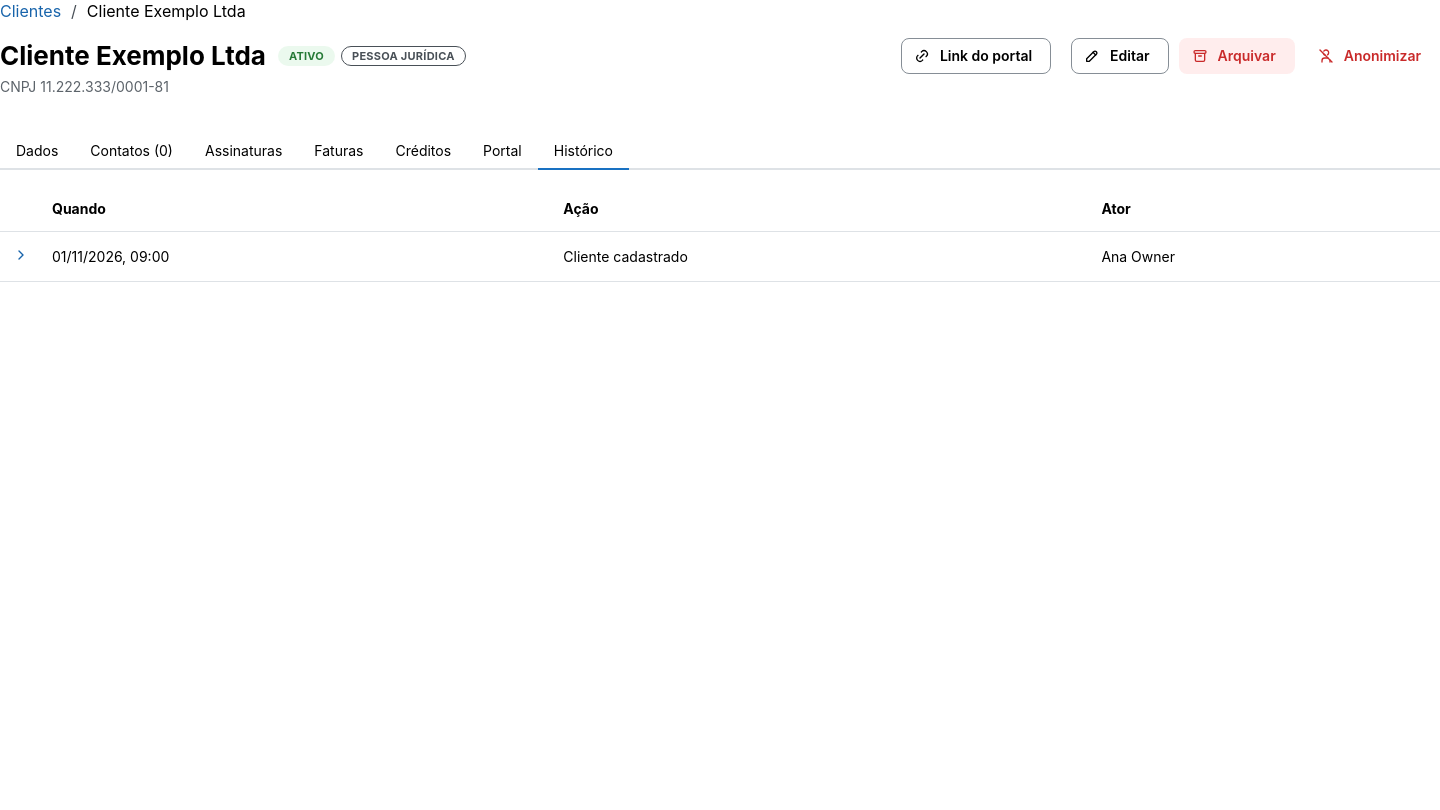
Test: links do portal na ficha do cliente › gerar link com a aba Histórico aberta recarrega o histórico e mostra a geração
Expected: the text "Cliente cadastrado" is shown, 563,248 -> 688,265
Expected: the text "Link do portal criado" is not shown
Click the button "Link do portal".
click(976, 56)  # box 901,38 -> 1051,74
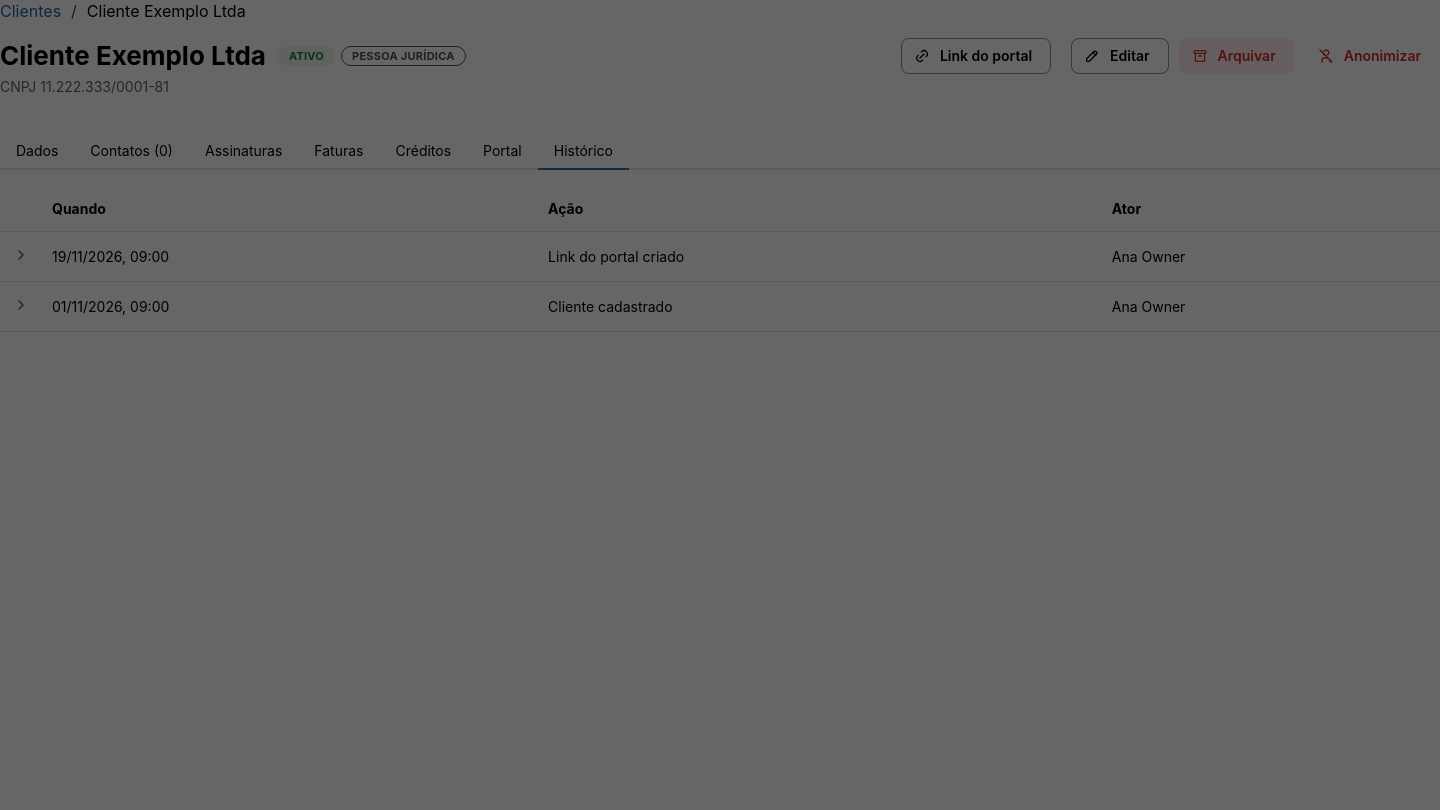
Now the text "Link do portal criado" is shown, box 548,248 -> 684,265
